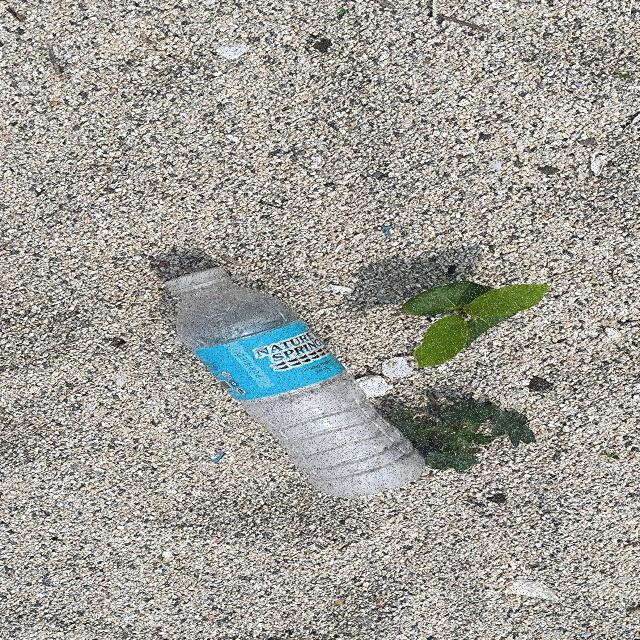plastic_waste: (164, 268, 427, 500)
